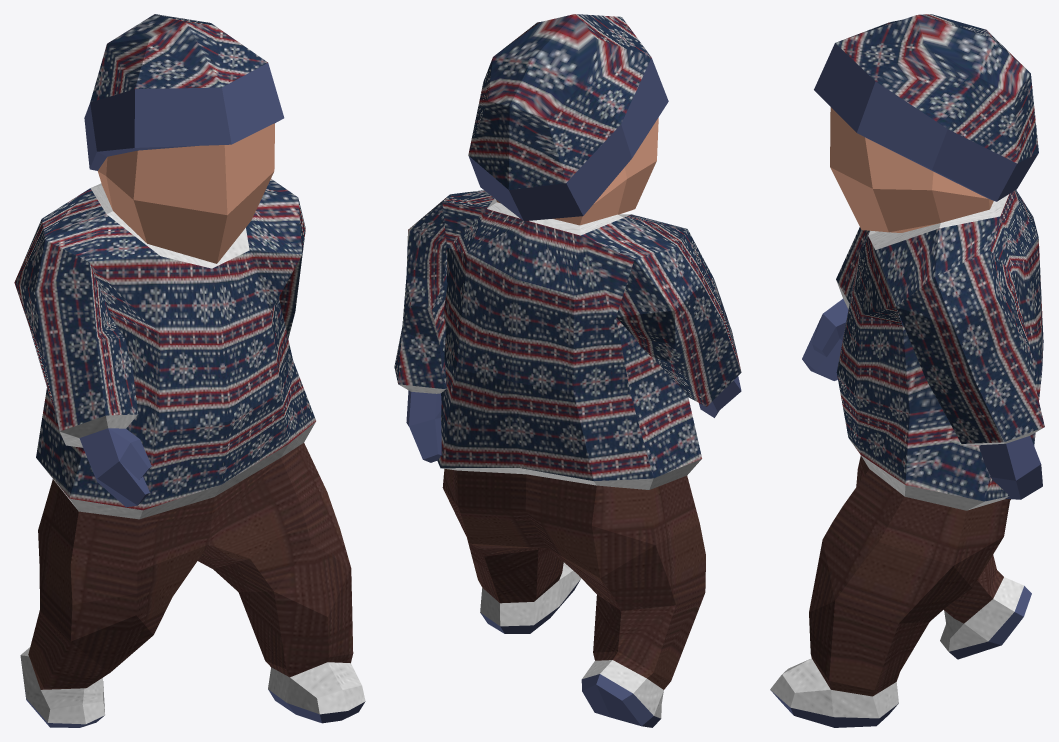
File: AutumnBaby.009.glb
3 views of the same model, side by side, from view 1: azimuth 30°, elevation 25°; view 2: azimuth 150°, elevation 25°; view 3: azimuth 270°, elevation 25° (orthographic). The views are drawn at different scales.
Visible parts, largest first — view 1: AutumnBaby.009; view 2: AutumnBaby.009; view 3: AutumnBaby.009.
Boxes of the visible parts, x1=… form: AutumnBaby.009: x1=14, y1=14, x2=365, y2=727; AutumnBaby.009: x1=394, y1=14, x2=741, y2=727; AutumnBaby.009: x1=770, y1=14, x2=1044, y2=727.
Size of the model in its own units: 0.2682 by 0.6085 by 0.2239.
1 material, 1 textured.
